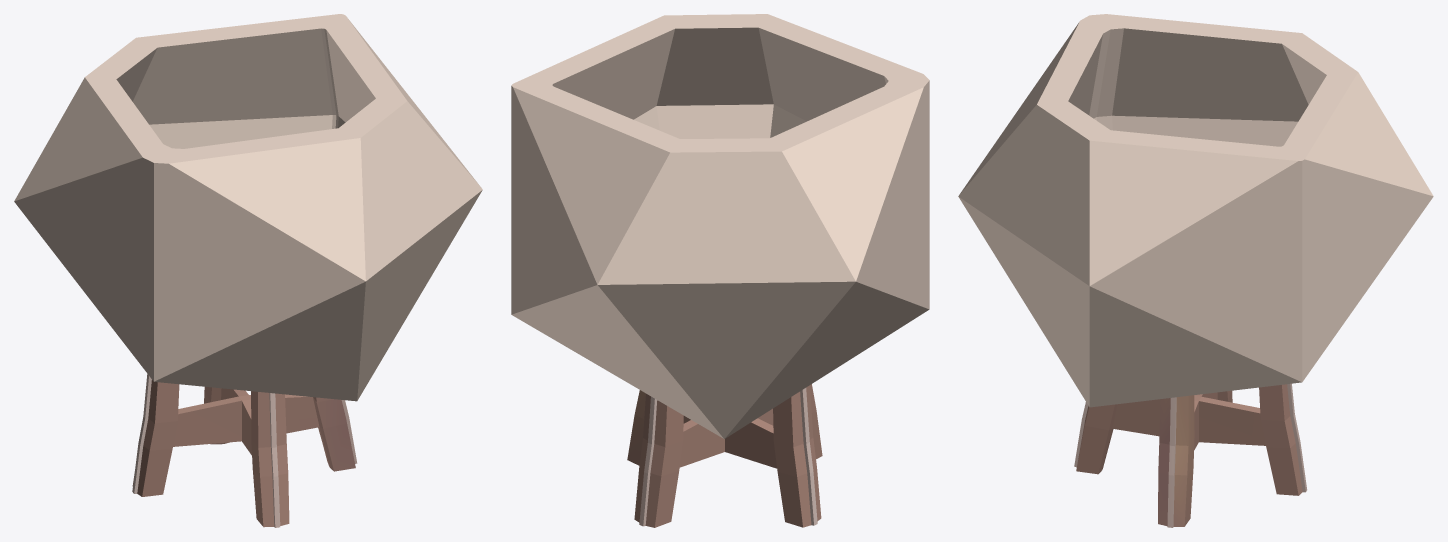
File: PlantPot_21.fbx
3 renders of one model, left to right at view 1: azimuth 30°, elevation 25°; view 2: azimuth 150°, elevation 25°; view 3: azimuth 270°, elevation 25°, orthographic. The views are drawn at different scales.
Parts seen in each view (by area): view 1: PlantPot_21; view 2: PlantPot_21; view 3: PlantPot_21.
Boxes of the visible parts, x1,y1,x2,y2 form: PlantPot_21: [14, 14, 482, 527]; PlantPot_21: [511, 14, 929, 527]; PlantPot_21: [958, 14, 1433, 527].
Bounding box in the file's own units: 30.35 × 31.04 × 33.93.
